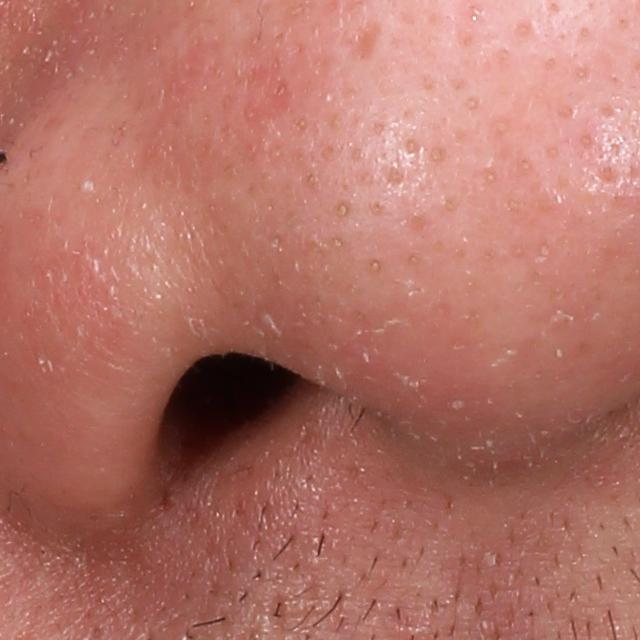atrophic_scar: (335, 1, 382, 64)
comedo: (328, 197, 356, 223)
